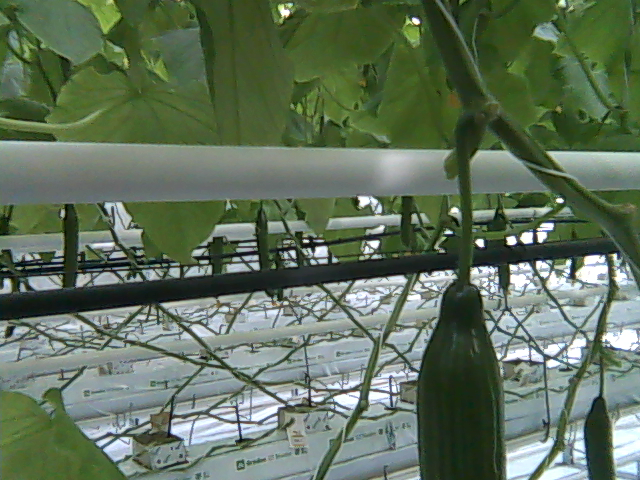concombre: (414, 277, 511, 480)
